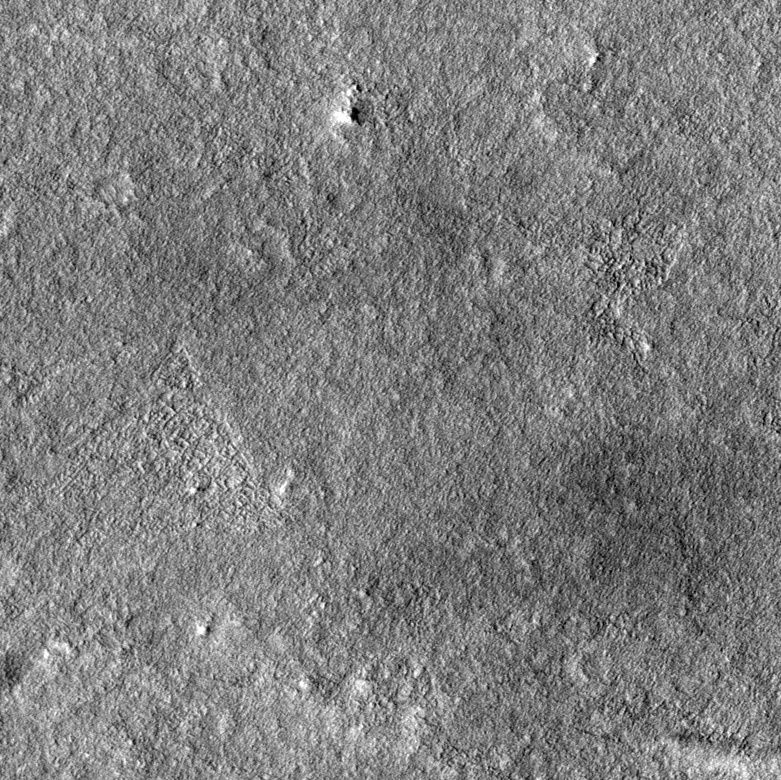dust_devil: (657, 728, 781, 778)
